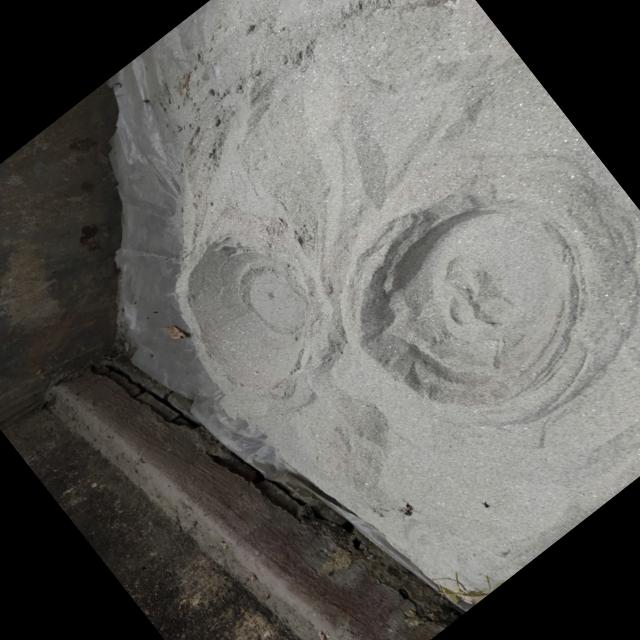C20: (367, 198, 582, 405), (187, 242, 313, 398)
